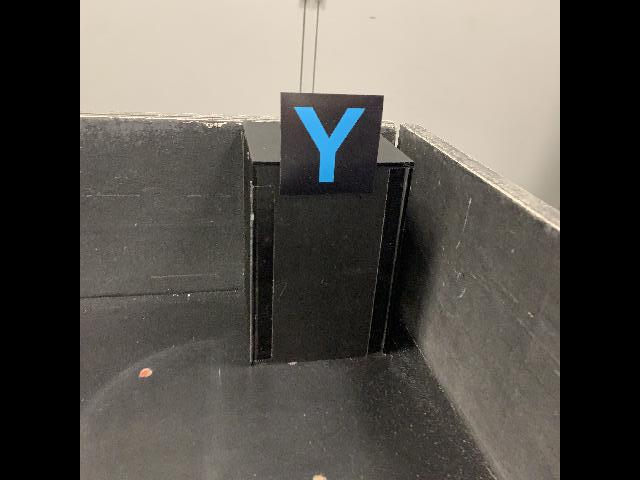alphabet_y: (278, 90, 385, 197)
